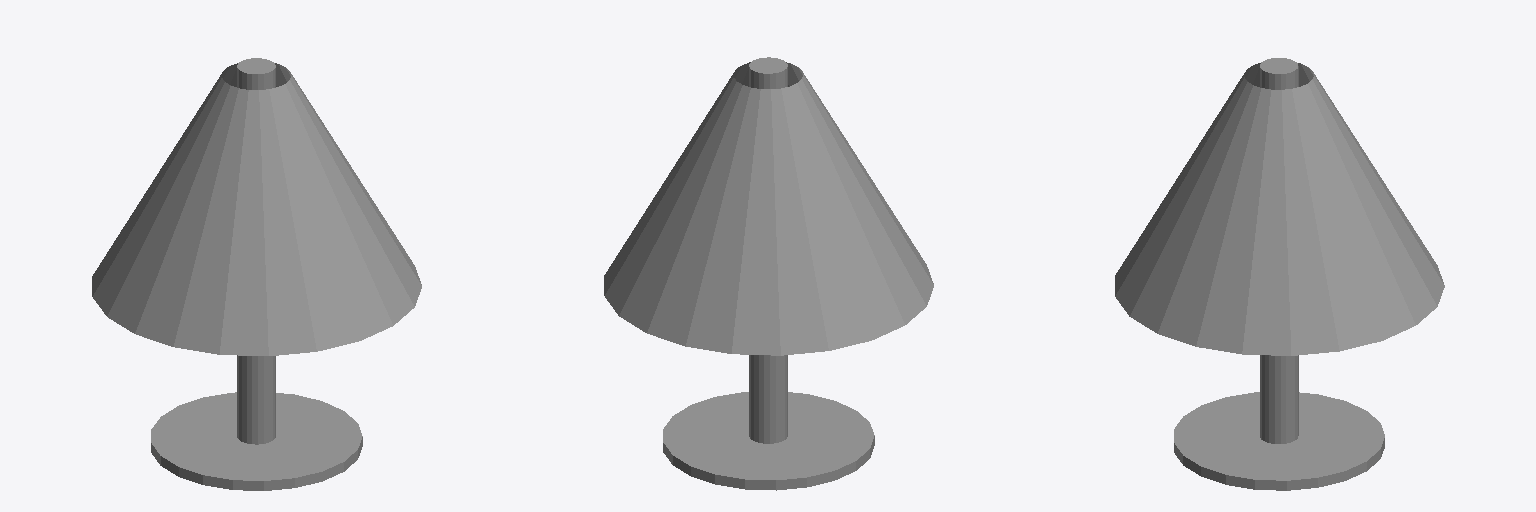
File: lamp.obj
3 renders of one model, left to right at view 1: azimuth 30°, elevation 25°; view 2: azimuth 150°, elevation 25°; view 3: azimuth 270°, elevation 25°, orthographic.
Visible parts, largest first — view 1: Circle.002; view 2: Circle.002; view 3: Circle.002.
Boxes of the visible parts, x1=… form: Circle.002: x1=92, y1=58, x2=421, y2=490; Circle.002: x1=604, y1=57, x2=933, y2=490; Circle.002: x1=1115, y1=58, x2=1444, y2=490.
Size of the model in its own units: 3.11 by 3.95 by 3.1.